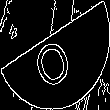O_NW: (31, 22, 79, 88)
